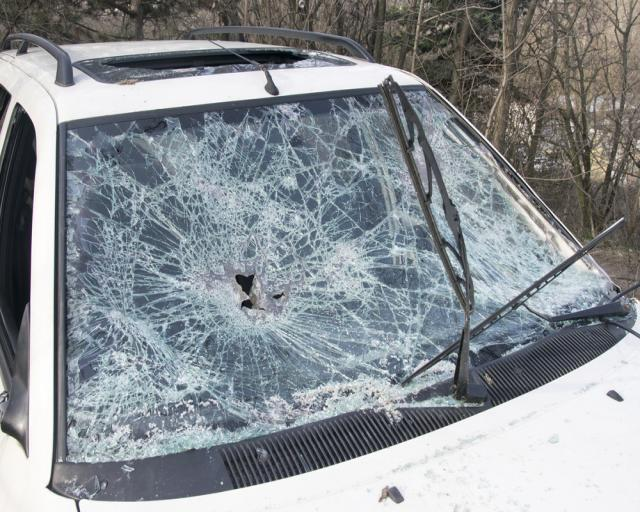glass shatter: (66, 89, 610, 464)
